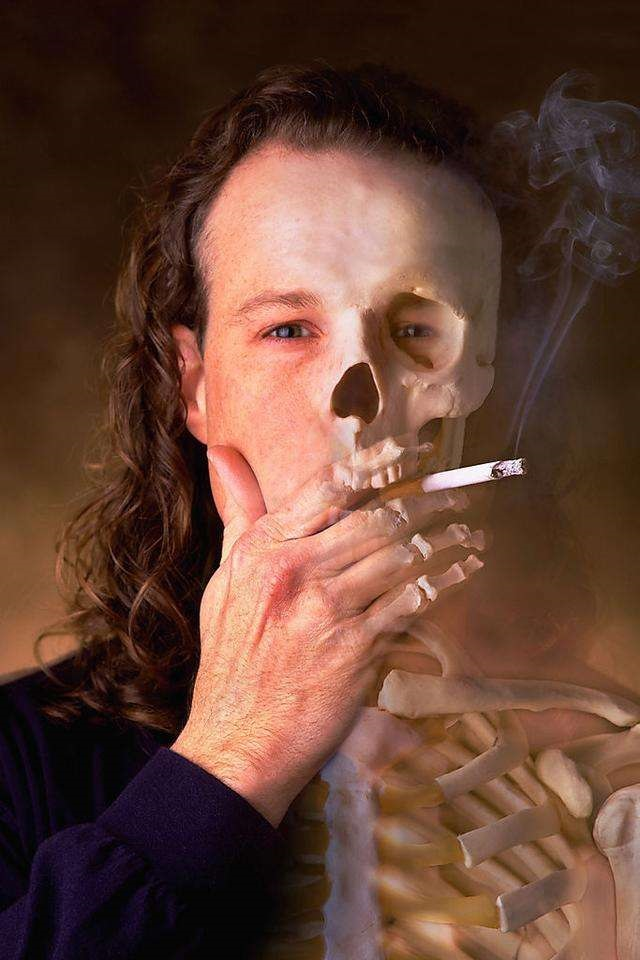smoke: (524, 82, 633, 269)
